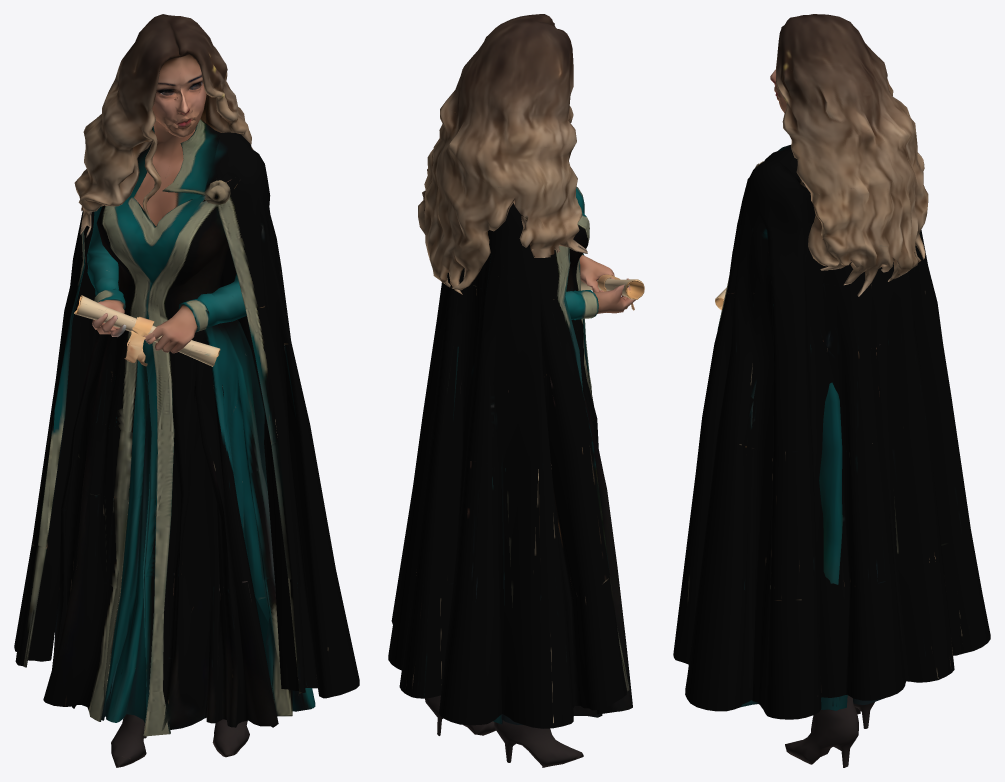
The model's file is saraya.glb.
The picture shows the model from 3 angles, left to right: view 1: azimuth 30°, elevation 25°; view 2: azimuth 150°, elevation 25°; view 3: azimuth 270°, elevation 25°; orthographic projection. The views are drawn at different scales.
Visible parts, largest first — view 1: geometry_0; view 2: geometry_0; view 3: geometry_0.
Boxes of the visible parts, x1,y1,x2,y2 form: geometry_0: (14,14,359,767); geometry_0: (388,14,644,767); geometry_0: (673,14,990,767).
Bounding box in the file's own units: 0.3721 × 0.9512 × 0.3823.
Materials: 1 (1 with a texture image).
